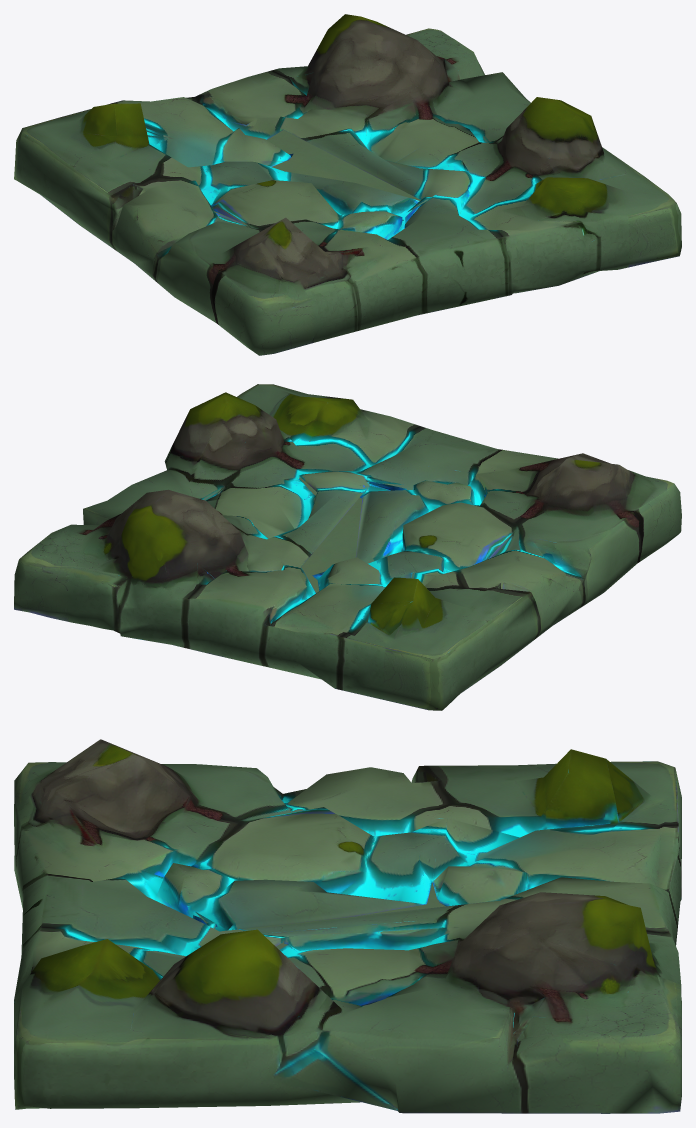
Rendered from floor_3.glb.
3 views of the same model, one above another, from view 1: azimuth 30°, elevation 25°; view 2: azimuth 150°, elevation 25°; view 3: azimuth 270°, elevation 25° (orthographic). The views are drawn at different scales.
Bounding box in the file's own units: 1.91 × 0.455 × 1.9.
Materials: 1 (1 with a texture image).
